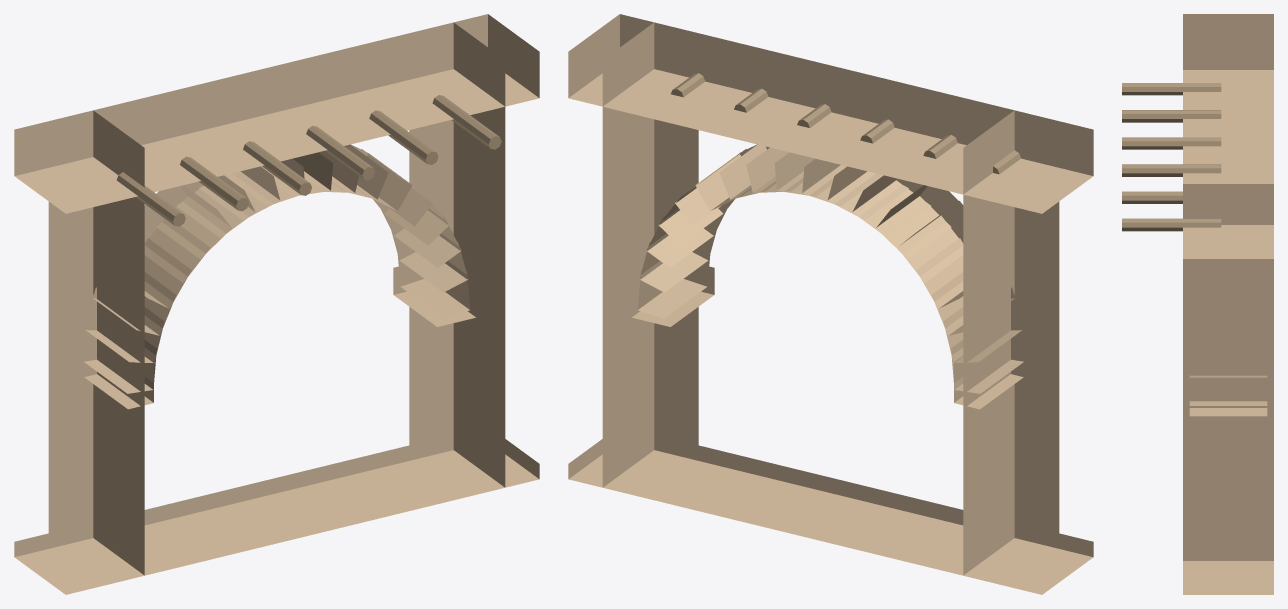
The model's file is adobe_rounded_portal.glb.
3 views of the same model, side by side, from view 1: azimuth 30°, elevation 25°; view 2: azimuth 150°, elevation 25°; view 3: azimuth 270°, elevation 25° (orthographic). The views are drawn at different scales.
Visible parts, largest first — view 1: adobe_rounded_portal; view 2: adobe_rounded_portal; view 3: adobe_rounded_portal.
Part boxes in pixels (x1,y1,x2,y2): adobe_rounded_portal: [14, 14, 539, 594]; adobe_rounded_portal: [568, 14, 1093, 594]; adobe_rounded_portal: [1122, 14, 1273, 594].
Size of the model in its own units: 5.1 by 4.4 by 1.61.
